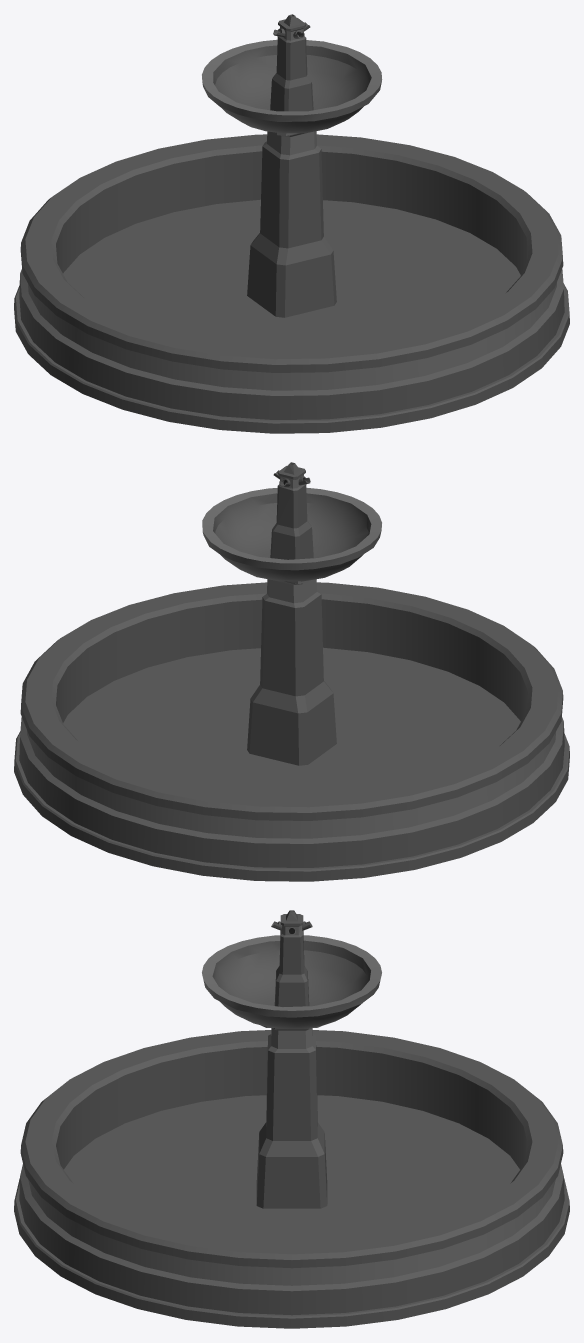
File: SM_Props_Fountain_01.fbx
3 views of the same model, one above another, from view 1: azimuth 30°, elevation 25°; view 2: azimuth 150°, elevation 25°; view 3: azimuth 270°, elevation 25° (orthographic).
Parts seen in each view (by area): view 1: SM_Props_Fountain_01_LOD0; view 2: SM_Props_Fountain_01_LOD0; view 3: SM_Props_Fountain_01_LOD0.
Part boxes in pixels (left/top/right/bottom): SM_Props_Fountain_01_LOD0: left=14, top=14, right=569, bottom=433; SM_Props_Fountain_01_LOD0: left=14, top=462, right=569, bottom=881; SM_Props_Fountain_01_LOD0: left=14, top=910, right=569, bottom=1328.
Bounding box in the file's own units: 434 × 259 × 434.
